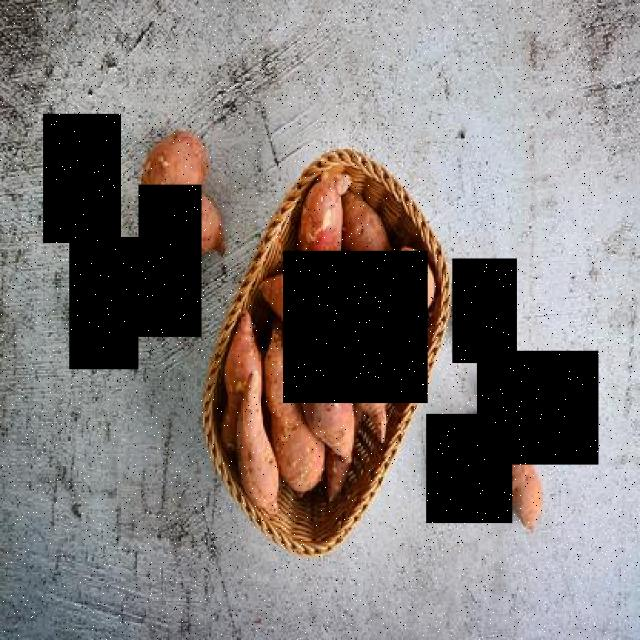Sweet_Potato: (283, 251, 428, 403), (477, 350, 598, 464), (43, 114, 120, 243), (138, 185, 202, 337), (427, 414, 513, 523), (70, 237, 138, 369), (453, 258, 518, 364)
